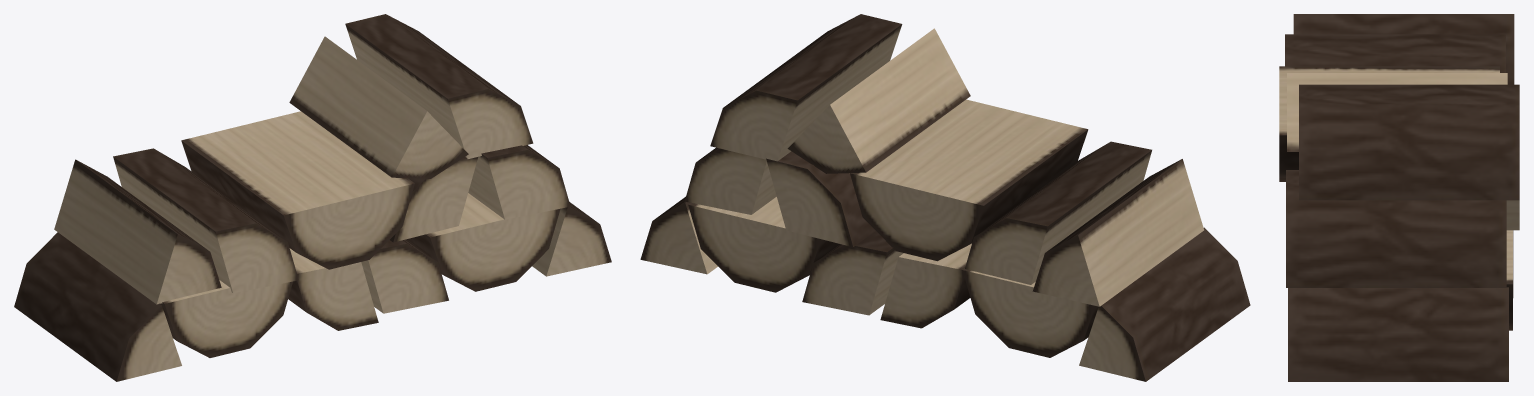
Rendered from FirewoodPile01_Geo.fbx.
3 views of the same model, side by side, from view 1: azimuth 30°, elevation 25°; view 2: azimuth 150°, elevation 25°; view 3: azimuth 270°, elevation 25° (orthographic). The views are drawn at different scales.
Parts seen in each view (by area): view 1: FirewoodPile01_Geo; view 2: FirewoodPile01_Geo; view 3: FirewoodPile01_Geo.
Part boxes in pixels (bbox=[...]): FirewoodPile01_Geo: bbox=[14, 14, 611, 381]; FirewoodPile01_Geo: bbox=[640, 14, 1250, 381]; FirewoodPile01_Geo: bbox=[1279, 14, 1519, 381].
Bounding box in the file's own units: 113 × 43.79 × 44.05.
